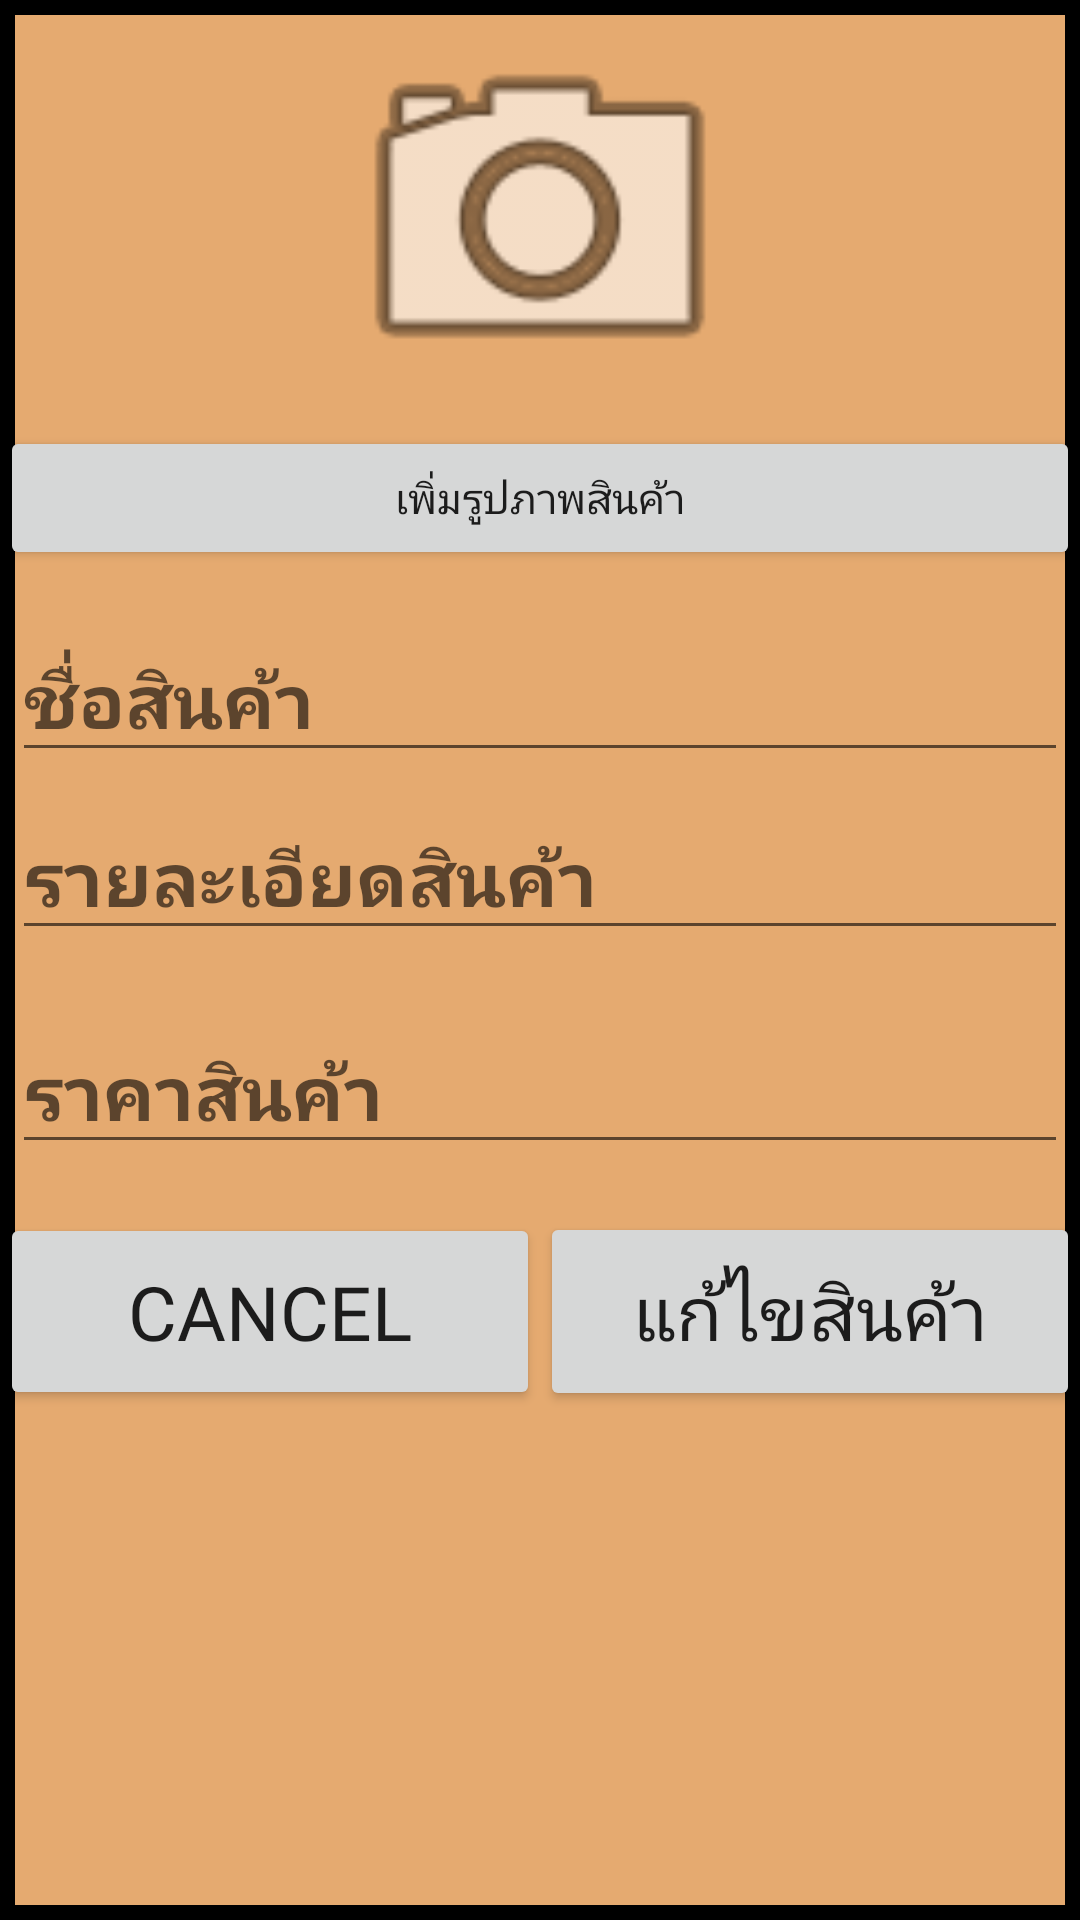

Where to tap for icons on this 1080 x 1920 app screen, as point (x, y):
camera: point (540, 206)
